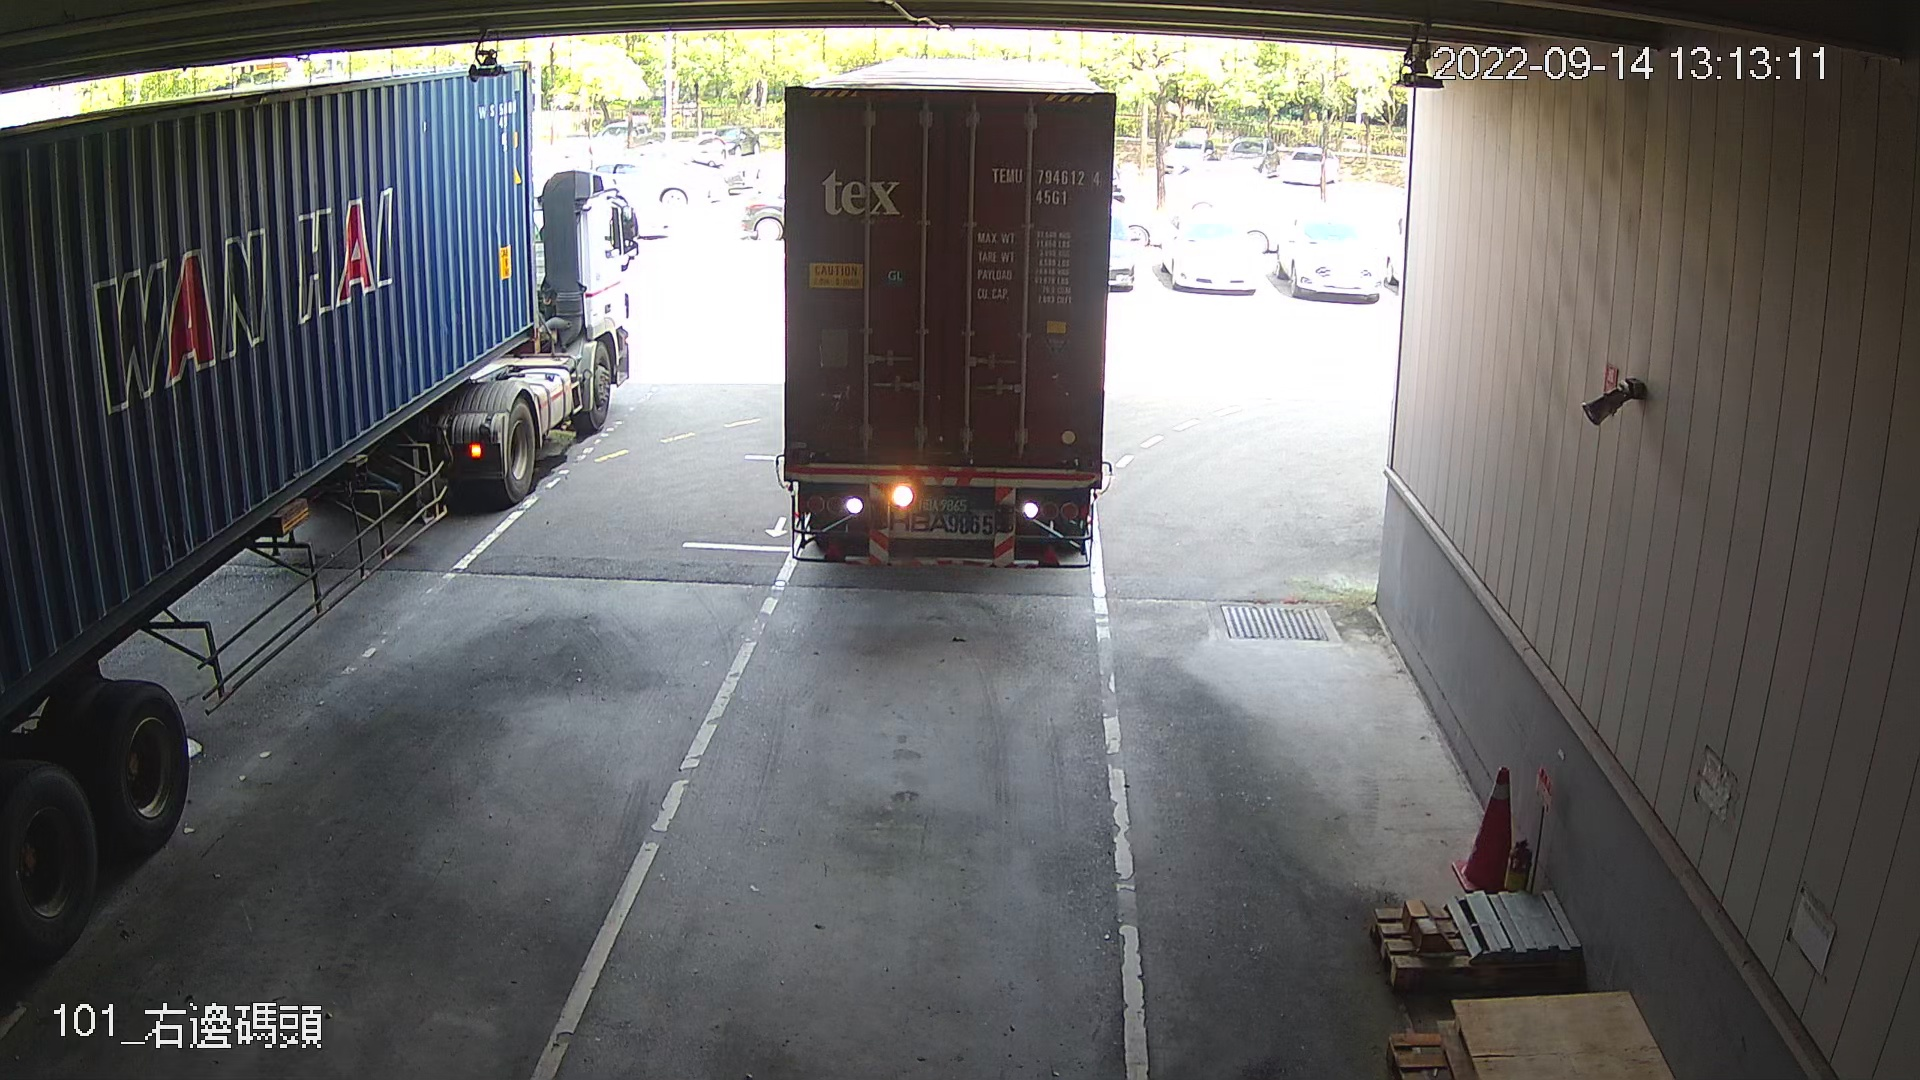container: (986, 158, 1102, 211)
